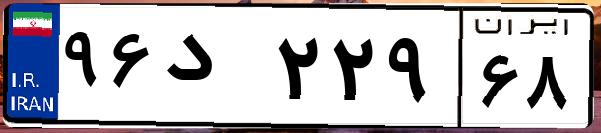2: (270, 28, 330, 110), (330, 28, 385, 110)
6: (475, 38, 525, 113), (110, 28, 158, 98)
8: (525, 38, 570, 115)
9: (385, 28, 445, 110), (57, 26, 110, 100)
د: (158, 20, 270, 120)
